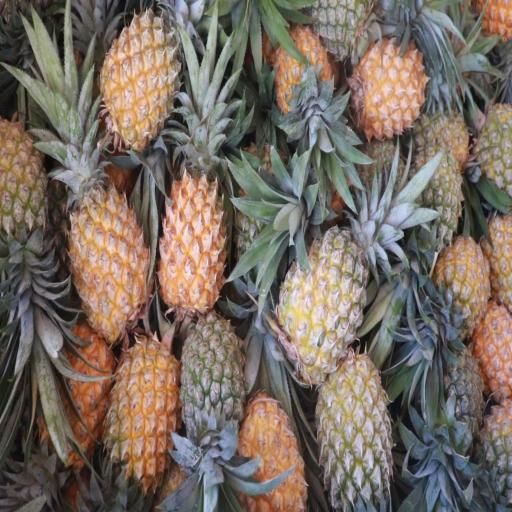------------------------------: (282, 234, 365, 378), (317, 359, 391, 512)
Pineapple - v8 v1: (72, 166, 147, 334), (102, 11, 179, 146), (160, 173, 228, 321), (112, 338, 180, 479), (46, 324, 114, 461), (237, 399, 307, 512), (0, 118, 49, 264), (355, 42, 424, 136), (272, 30, 334, 126), (440, 236, 492, 332)
